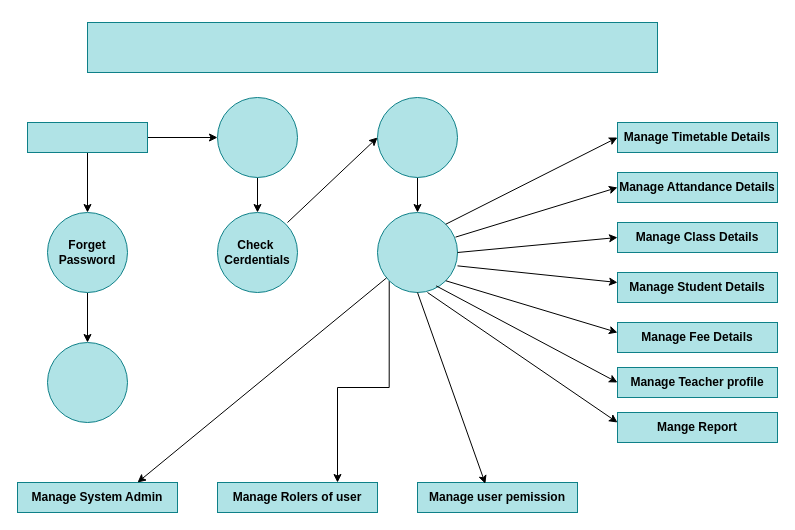
Some shapes in this 795 by 530 pixel diagram are drawn without their labels. Here are the shapes that lost their labels. From the top down, the centre of each, then its label:
the point at 372,47: Student Information System
the point at 87,137: Admin
the point at 257,137: Login to System
the point at 417,137: Check Roles to Access
the point at 417,252: Mange Modules
the point at 87,382: Send Email to user
